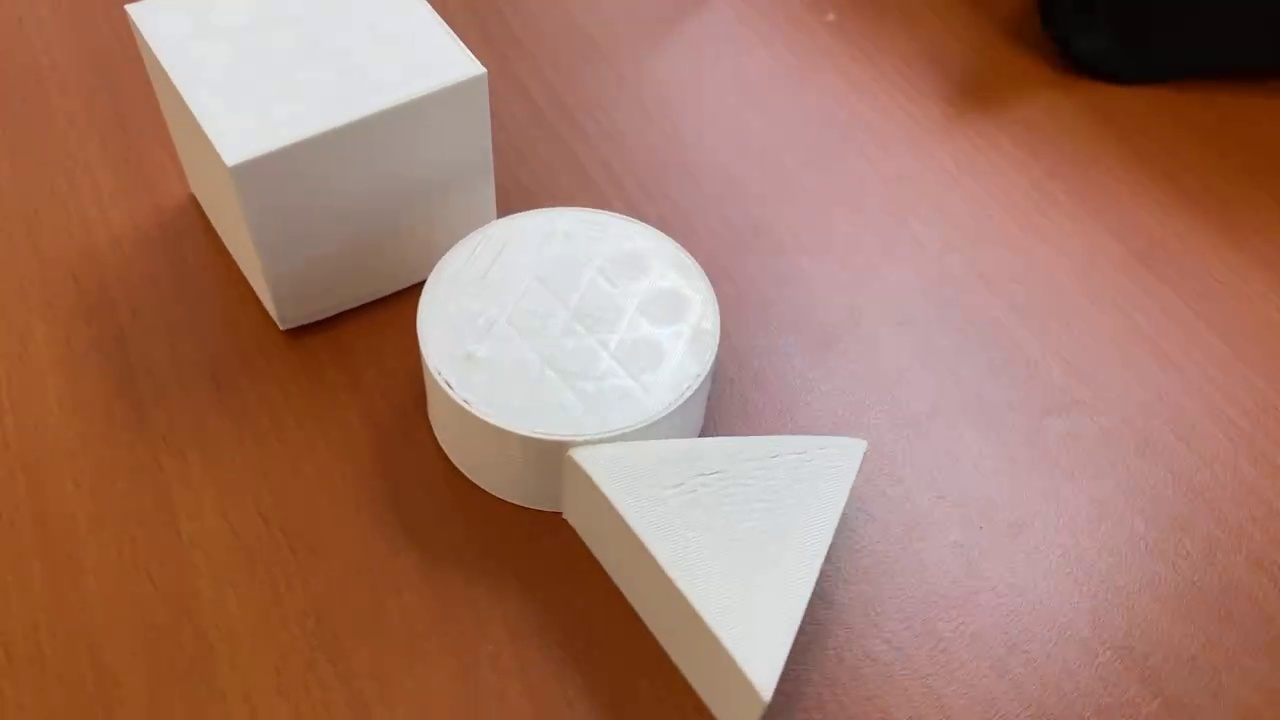Cube: (122, 3, 501, 335)
Cylinder_short: (415, 206, 721, 514)
Triangle_short: (561, 431, 868, 720)
